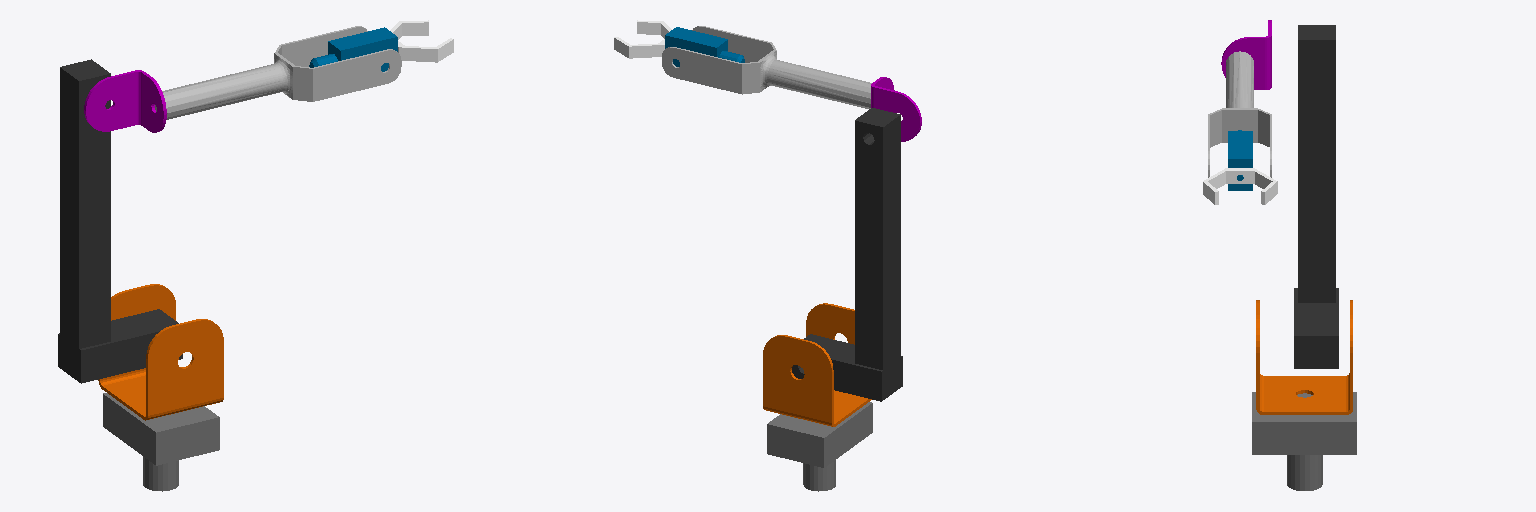
The robot description file, URDF, robot "Arm_URDF_2026":
<?xml version="1.0" encoding="utf-8"?>
<!-- This URDF was automatically created by SolidWorks to URDF Exporter! Originally created by Stephen Brawner (brawner@gmail.com) 
     Commit Version: 1.6.0-4-g7f85cfe  Build Version: 1.6.7995.38578
     For more information, please see http://wiki.ros.org/sw_urdf_exporter -->
<robot
  name="Arm_URDF_2026">
  <link
    name="base_link">
    <inertial>
      <origin
        xyz="3.84653360219475E-19 1.62936819250162E-18 -0.0341328821653139"
        rpy="0 0 0" />
      <mass
        value="0.864892134563512" />
      <inertia
        ixx="0.00191876859811616"
        ixy="-3.39237895942118E-19"
        ixz="6.81787506541134E-20"
        iyy="0.00123037859811616"
        iyz="3.87426352662329E-20"
        izz="0.00194695919266471" />
    </inertial>
    <visual>
      <origin
        xyz="0 0 0"
        rpy="0 0 0" />
      <geometry>
        <mesh
          filename="package://simulation/meshes/Arm_URDF_2026/base_link.STL" />
      </geometry>
      <material
        name="">
        <color
          rgba="0.501960784313725 0.501960784313725 0.501960784313725 1" />
      </material>
    </visual>
    <collision>
      <origin
        xyz="0 0 0"
        rpy="0 0 0" />
      <geometry>
        <mesh
          filename="package://simulation/meshes/Arm_URDF_2026/base_link.STL" />
      </geometry>
    </collision>
  </link>
  <link
    name="shoulder_plate">
    <inertial>
      <origin
        xyz="5.08794742628151E-18 -1.92579702269949E-16 0.0600160238534802"
        rpy="0 0 0" />
      <mass
        value="0.218906800388021" />
      <inertia
        ixx="0.00111549148827076"
        ixy="-2.33595804984975E-18"
        ixz="2.49525184688718E-19"
        iyy="0.0006612096112071"
        iyz="-1.11709605937177E-18"
        izz="0.000976648220892923" />
    </inertial>
    <visual>
      <origin
        xyz="0 0 0"
        rpy="0 0 0" />
      <geometry>
        <mesh
          filename="package://simulation/meshes/Arm_URDF_2026/shoulder_plate.STL" />
      </geometry>
      <material
        name="">
        <color
          rgba="0.909803921568627 0.443137254901961 0.0313725490196078 1" />
      </material>
    </visual>
    <collision>
      <origin
        xyz="0 0 0"
        rpy="0 0 0" />
      <geometry>
        <mesh
          filename="package://simulation/meshes/Arm_URDF_2026/shoulder_plate.STL" />
      </geometry>
    </collision>
  </link>
  <joint
    name="shoulder"
    type="revolute">
    <origin
      xyz="0 0 0"
      rpy="0 0 0" />
    <parent
      link="base_link" />
    <child
      link="shoulder_plate" />
    <axis
      xyz="0 0 1" />
    <limit
      lower="-3.1416"
      upper="3.1416"
      effort="0"
      velocity="0" />
  </joint>
  <link
    name="shoulder_tube">
    <inertial>
      <origin
        xyz="0.0934397535393198 0.153473166564317 0.0789999999999963"
        rpy="0 0 0" />
      <mass
        value="1.53763602521836" />
      <inertia
        ixx="0.0311716120782097"
        ixy="-0.00392450317623869"
        ixz="-4.23782427029306E-19"
        iyy="0.0025675148100835"
        iyz="-3.11391018603271E-18"
        izz="0.0329256007856722" />
    </inertial>
    <visual>
      <origin
        xyz="0 0 0"
        rpy="0 0 0" />
      <geometry>
        <mesh
          filename="package://simulation/meshes/Arm_URDF_2026/shoulder_tube.STL" />
      </geometry>
      <material
        name="">
        <color
          rgba="0.250980392156863 0.250980392156863 0.250980392156863 1" />
      </material>
    </visual>
    <collision>
      <origin
        xyz="0 0 0"
        rpy="0 0 0" />
      <geometry>
        <mesh
          filename="package://simulation/meshes/Arm_URDF_2026/shoulder_tube.STL" />
      </geometry>
    </collision>
  </link>
  <joint
    name="shoulder_joint"
    type="revolute">
    <origin
      xyz="0 -0.0625 0.095"
      rpy="1.5708 0 3.1416" />
    <parent
      link="shoulder_plate" />
    <child
      link="shoulder_tube" />
    <axis
      xyz="0 0 -1" />
    <limit
      lower="-3.1416"
      upper="3.1416"
      effort="0"
      velocity="0" />
  </joint>
  <link
    name="elbow_plate">
    <inertial>
      <origin
        xyz="-0.0261022307368617 -1.11022302462516E-16 0.0514469264415673"
        rpy="0 0 0" />
      <mass
        value="0.0520779843414588" />
      <inertia
        ixx="4.41777709651995E-05"
        ixy="2.8882044236066E-21"
        ixz="1.57671201262607E-05"
        iyy="5.61312283203173E-05"
        iyz="2.23628916786052E-23"
        izz="6.26364976063086E-05" />
    </inertial>
    <visual>
      <origin
        xyz="0 0 0"
        rpy="0 0 0" />
      <geometry>
        <mesh
          filename="package://simulation/meshes/Arm_URDF_2026/elbow_plate.STL" />
      </geometry>
      <material
        name="">
        <color
          rgba="0.752941176470588 0 0.752941176470588 1" />
      </material>
    </visual>
    <collision>
      <origin
        xyz="0 0 0"
        rpy="0 0 0" />
      <geometry>
        <mesh
          filename="package://simulation/meshes/Arm_URDF_2026/elbow_plate.STL" />
      </geometry>
    </collision>
  </link>
  <joint
    name="elbow"
    type="revolute">
    <origin
      xyz="0.11007 0.40372 0.0525"
      rpy="-3.1416 0 0" />
    <parent
      link="shoulder_tube" />
    <child
      link="elbow_plate" />
    <axis
      xyz="0 0 -1" />
    <limit
      lower="-3.1416"
      upper="3.1416"
      effort="0"
      velocity="0" />
  </joint>
  <link
    name="wrist">
    <inertial>
      <origin
        xyz="3.58046925441613E-15 3.33066907387547E-16 0.134620995048469"
        rpy="0 0 0" />
      <mass
        value="0.320889143269656" />
      <inertia
        ixx="0.0024419546737531"
        ixy="2.0976783346451E-20"
        ixz="1.16073686945327E-17"
        iyy="0.00252871497722016"
        iyz="-5.27209042104812E-20"
        izz="0.000166391156539952" />
    </inertial>
    <visual>
      <origin
        xyz="0 0 0"
        rpy="0 0 0" />
      <geometry>
        <mesh
          filename="package://simulation/meshes/Arm_URDF_2026/wrist.STL" />
      </geometry>
      <material
        name="">
        <color
          rgba="0.752941176470588 0.752941176470588 0.752941176470588 1" />
      </material>
    </visual>
    <collision>
      <origin
        xyz="0 0 0"
        rpy="0 0 0" />
      <geometry>
        <mesh
          filename="package://simulation/meshes/Arm_URDF_2026/wrist.STL" />
      </geometry>
    </collision>
  </link>
  <joint
    name="elbow_roll"
    type="revolute">
    <origin
      xyz="-0.052 0 0.08"
      rpy="3.1416 1.5708 0" />
    <parent
      link="elbow_plate" />
    <child
      link="wrist" />
    <axis
      xyz="0 0 1" />
    <limit
      lower="-3.1416"
      upper="3.1416"
      effort="0"
      velocity="0" />
  </joint>
  <link
    name="end_effector">
    <inertial>
      <origin
        xyz="-0.0161139391356931 -0.00259180380524526 -4.28823643261467E-15"
        rpy="0 0 0" />
      <mass
        value="0.168430124440615" />
      <inertia
        ixx="4.9380907682992E-05"
        ixy="2.49162208357145E-07"
        ixz="1.24894911363941E-20"
        iyy="0.00018100414119621"
        iyz="-4.57622129740949E-21"
        izz="0.000198242850143219" />
    </inertial>
    <visual>
      <origin
        xyz="0 0 0"
        rpy="0 0 0" />
      <geometry>
        <mesh
          filename="package://simulation/meshes/Arm_URDF_2026/end_effector.STL" />
      </geometry>
      <material
        name="">
        <color
          rgba="0 0.450980392156863 0.643137254901961 1" />
      </material>
    </visual>
    <collision>
      <origin
        xyz="0 0 0"
        rpy="0 0 0" />
      <geometry>
        <mesh
          filename="package://simulation/meshes/Arm_URDF_2026/end_effector.STL" />
      </geometry>
    </collision>
  </link>
  <joint
    name="ee_pitch"
    type="revolute">
    <origin
      xyz="0 0 0.334"
      rpy="3.1416 -1.5708 0" />
    <parent
      link="wrist" />
    <child
      link="end_effector" />
    <axis
      xyz="0 0 -1" />
    <limit
      lower="-3.1416"
      upper="3.1416"
      effort="0"
      velocity="0" />
  </joint>
  <link
    name="gripper">
    <inertial>
      <origin
        xyz="5.06539254985228E-15 2.05391259555654E-15 0.0209653367613958"
        rpy="0 0 0" />
      <mass
        value="0.0277832491665746" />
      <inertia
        ixx="1.66013886897555E-05"
        ixy="-5.40905697064629E-22"
        ixz="-7.75422192159671E-20"
        iyy="4.61873064953396E-05"
        iyz="3.5185893407144E-21"
        izz="3.14806768172064E-05" />
    </inertial>
    <visual>
      <origin
        xyz="0 0 0"
        rpy="0 0 0" />
      <geometry>
        <mesh
          filename="package://simulation/meshes/Arm_URDF_2026/gripper.STL" />
      </geometry>
      <material
        name="">
        <color
          rgba="1 1 1 1" />
      </material>
    </visual>
    <collision>
      <origin
        xyz="0 0 0"
        rpy="0 0 0" />
      <geometry>
        <mesh
          filename="package://simulation/meshes/Arm_URDF_2026/gripper.STL" />
      </geometry>
    </collision>
  </link>
  <joint
    name="ee_roll"
    type="revolute">
    <origin
      xyz="0.045 -0.0025 0"
      rpy="0 1.5708 0" />
    <parent
      link="end_effector" />
    <child
      link="gripper" />
    <axis
      xyz="0 0 -1" />
    <limit
      lower="-3.1416"
      upper="3.1416"
      effort="0"
      velocity="0" />
  </joint>
  <!-- Dummy joint so moveit can config the end effector properly-->
  <link
    name="dummy_ee_link">
    <inertial>
      <origin
        xyz="0 0 0"
        rpy="0 0 0" />
      <mass
        value="0" />
      <inertia
        ixx="0"
        ixy="0"
        ixz="0"
        iyy="0"
        iyz="0"
        izz="0" />
    </inertial>
    <!-- <visual>
      <origin
        xyz="0 0 0"
        rpy="0 0 0" />
      <material
        name="">
        <color
          rgba="1 1 1 1" />
      </material>
    </visual> -->
    <!-- <collision>
      <origin
        xyz="0 0 0"
        rpy="0 0 0" />
    </collision> -->
  </link>
  <joint
    name="dummy_ee_joint"
    type="revolute">
    <origin
      xyz="0 0 0"
      rpy="0 0 0" />
    <parent
      link="gripper" />
    <child
      link="dummy_ee_link" />
    <axis
      xyz="0 0 -1" />
    <limit
      lower="0"
      upper="0"
      effort="0"
      velocity="0" />
  </joint>
</robot>

--- Facts derived from the render (not from the file) ---
Views: 3 orthographic renders of the robot side by side, from view 1: azimuth 30°, elevation 25°; view 2: azimuth 150°, elevation 25°; view 3: azimuth 270°, elevation 25°.
Model Arm_URDF_2026 with 8 links and 7 joints (7 revolute), rooted at base_link, posed all joints at 0.
Visible links, largest first — view 1: shoulder_tube, shoulder_plate, wrist, base_link, elbow_plate, end_effector, gripper; view 2: shoulder_tube, shoulder_plate, wrist, base_link, elbow_plate, end_effector, gripper; view 3: shoulder_tube, base_link, shoulder_plate, wrist, elbow_plate, gripper, end_effector.
Link boxes in pixels (x1,y1,x2,y2): shoulder_tube: (58,59,182,383); shoulder_plate: (98,284,223,420); wrist: (155,26,401,119); base_link: (103,393,219,491); elbow_plate: (84,70,166,132); end_effector: (309,27,397,71); gripper: (390,20,453,62); shoulder_tube: (792,108,902,401); shoulder_plate: (763,303,871,426); wrist: (662,26,871,108); base_link: (767,402,872,491); elbow_plate: (871,77,921,141); end_effector: (665,27,744,66); gripper: (614,20,671,58); shoulder_tube: (1294,25,1338,368); base_link: (1252,392,1356,490); shoulder_plate: (1256,300,1352,414); wrist: (1208,51,1271,177); elbow_plate: (1221,20,1271,89); gripper: (1203,168,1277,204); end_effector: (1228,130,1252,190).
Size in the robot's own frame: 0.5377 by 0.2151 by 0.657 metres.
7 mesh visuals loaded from 7 distinct referenced files (7 binary STL).
